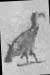G21: (3, 0, 48, 74)
